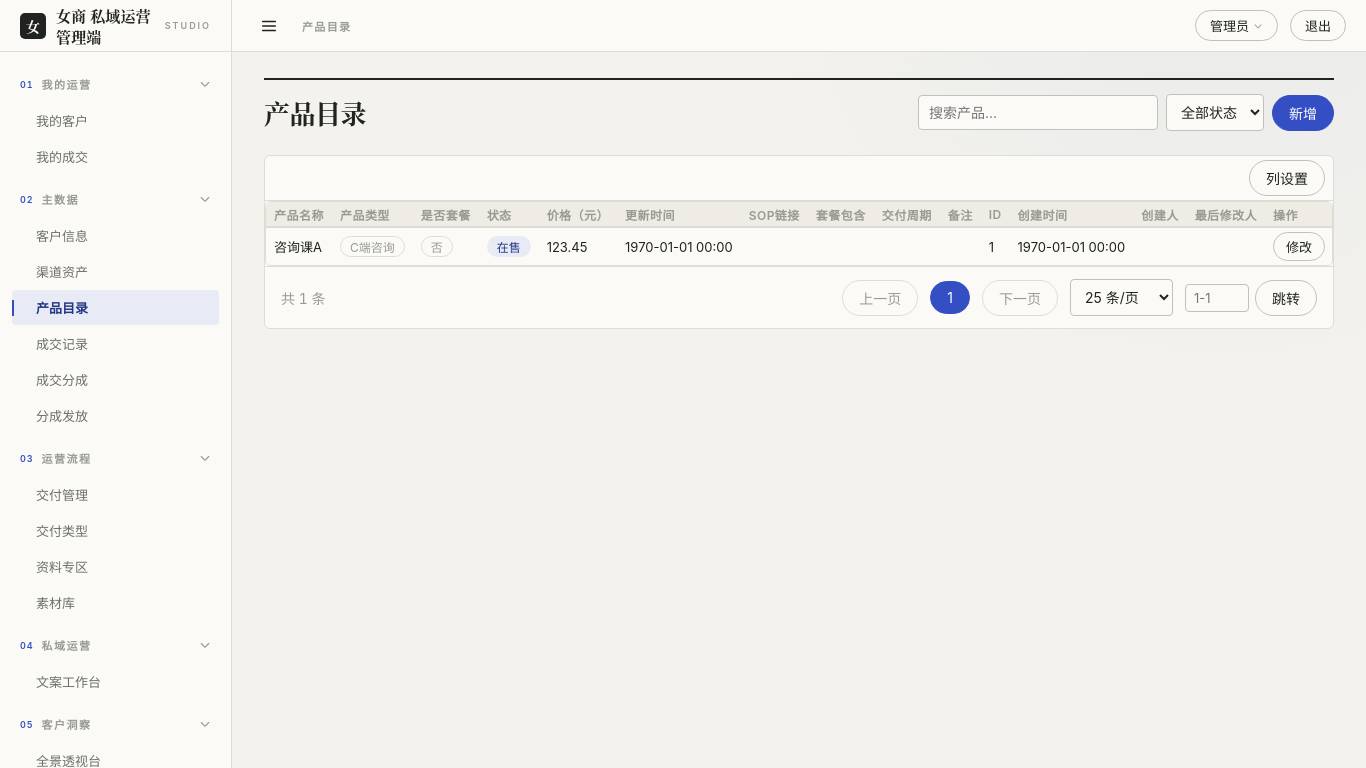
Test case: 产品目录页 › 价格非法输入：toast 报错、不发 PATCH 且不清空价格（M6）
Double-click the text "123.45": (578, 246) left=539, top=228, right=617, bottom=265
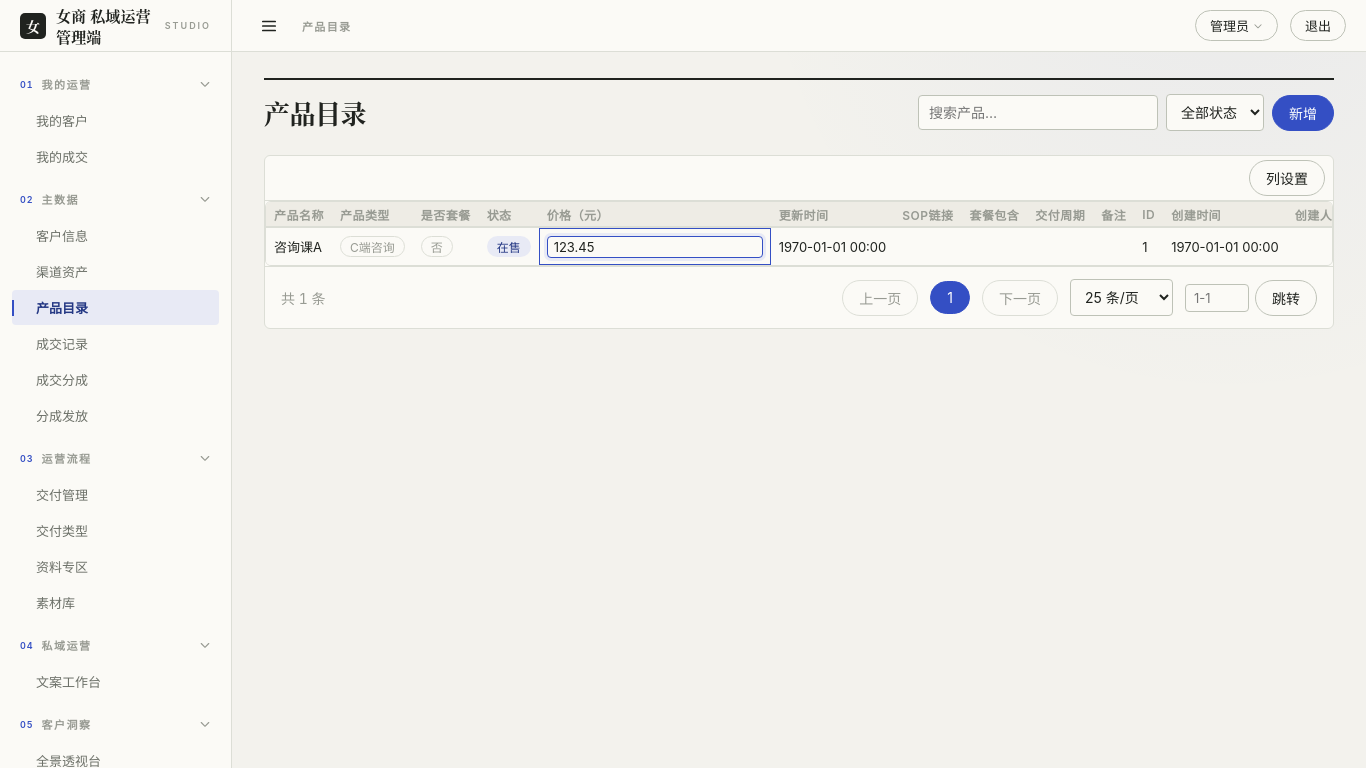
Replace the text in the field named "价格（元）" with "12a": (655, 246) left=547, top=236, right=763, bottom=258
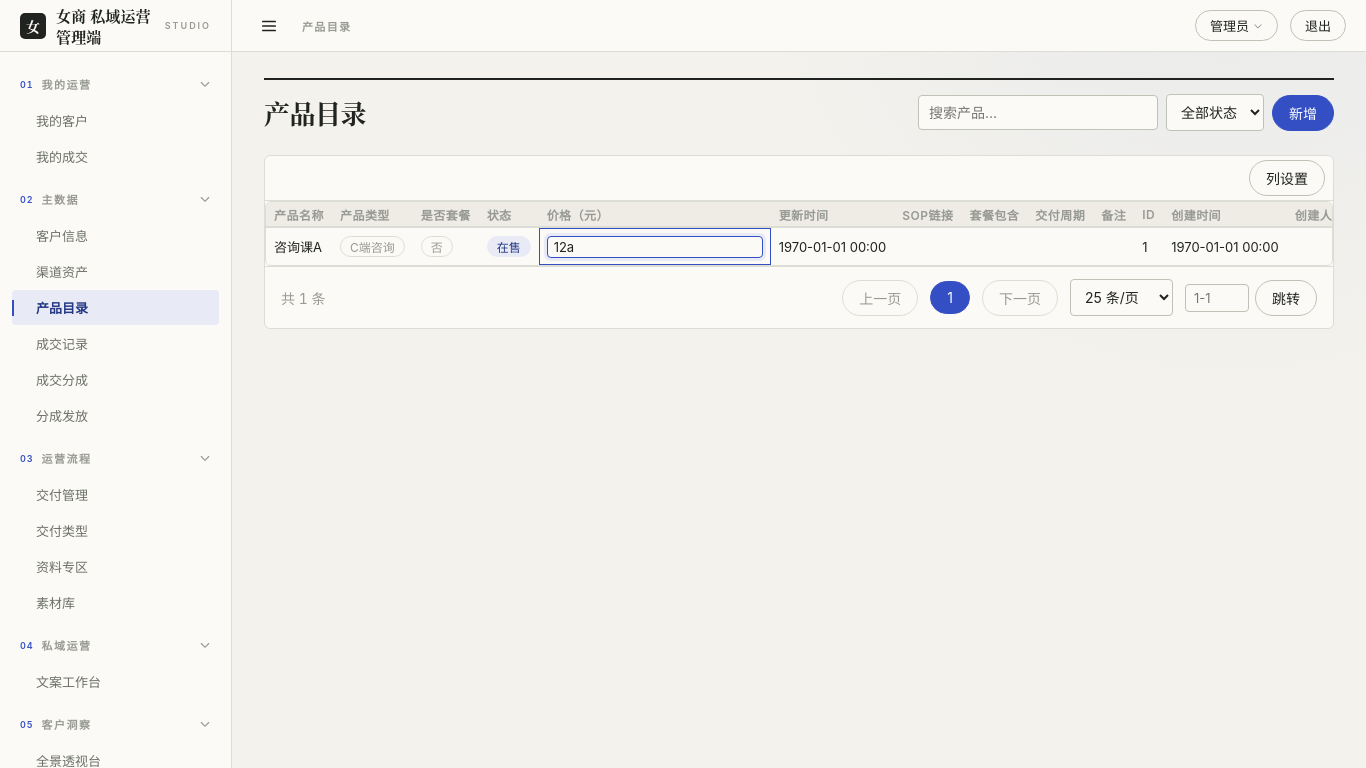
Press Tab in the field named "价格（元）", box left=547, top=236, right=763, bottom=258
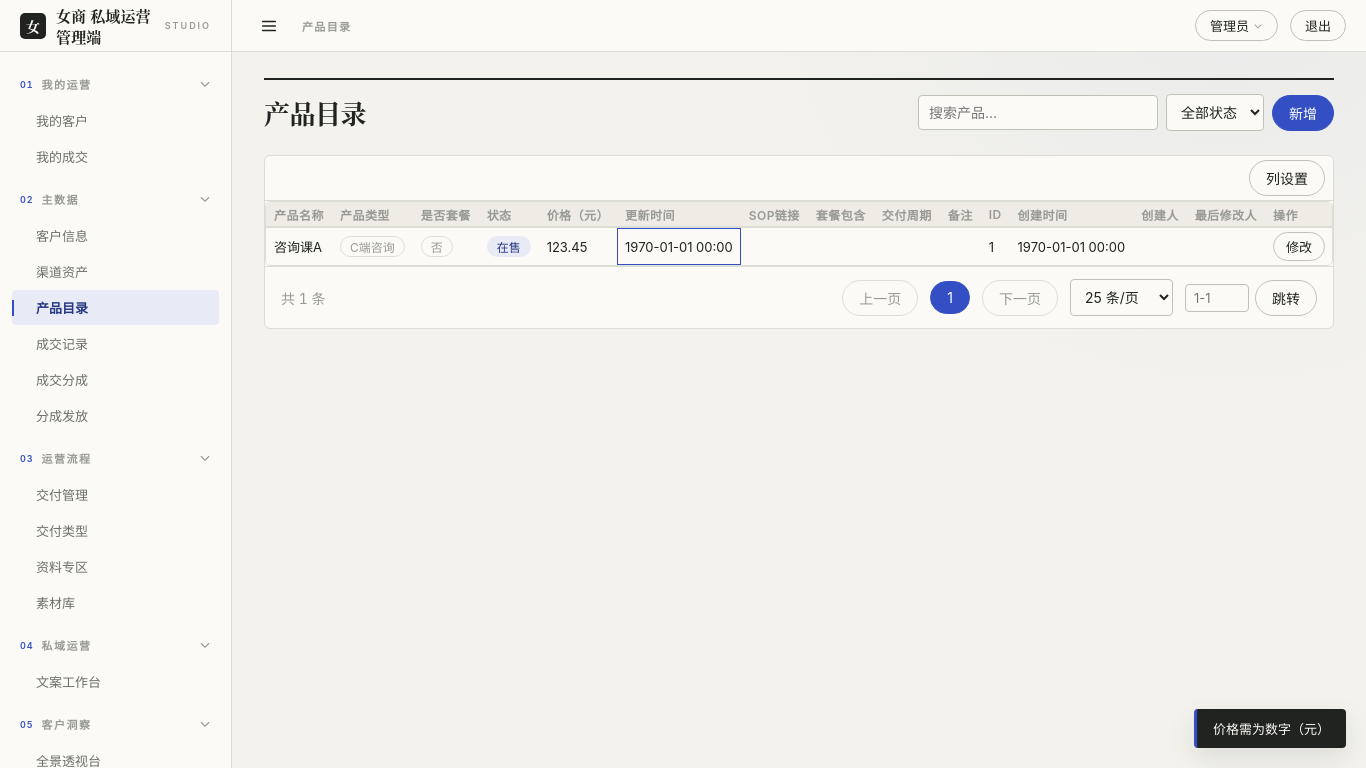
Expected: the text "价格需为数字（元）" is shown, left=1194, top=709, right=1346, bottom=748
